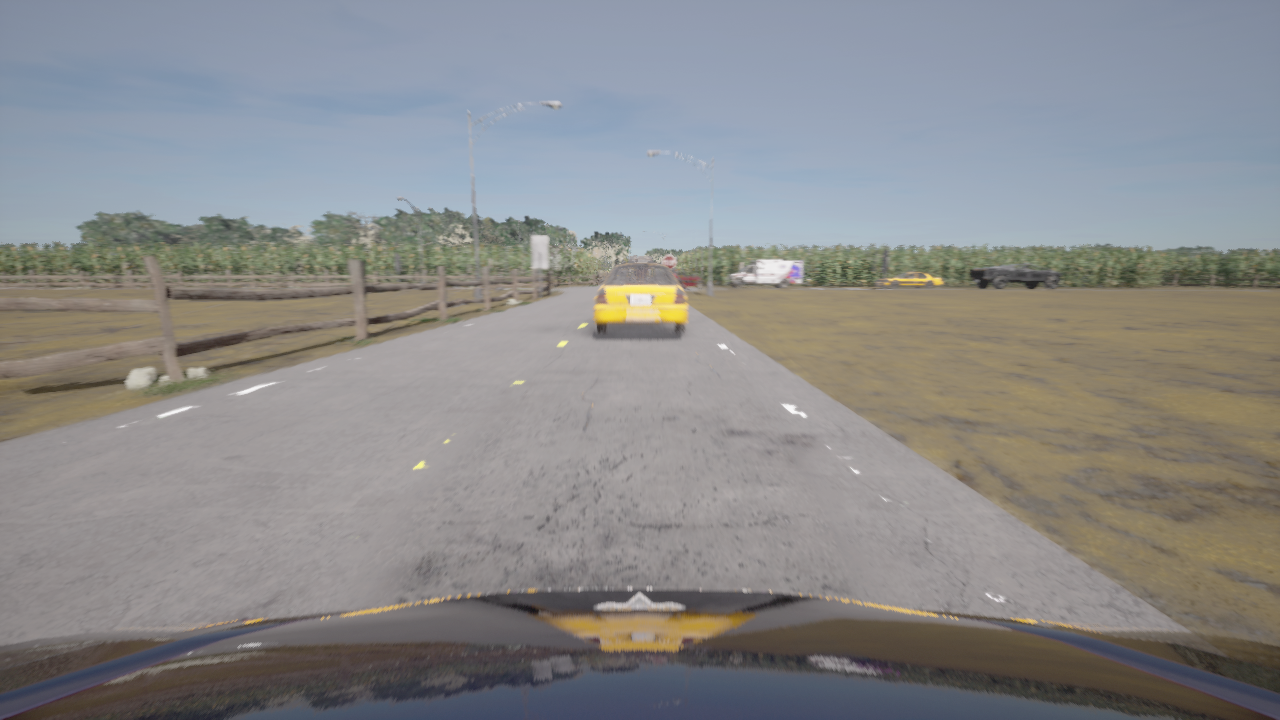cyclist: (0, 588, 1279, 719), (595, 257, 687, 333), (969, 263, 1061, 289), (727, 259, 805, 288), (875, 270, 943, 288), (671, 268, 703, 288)
